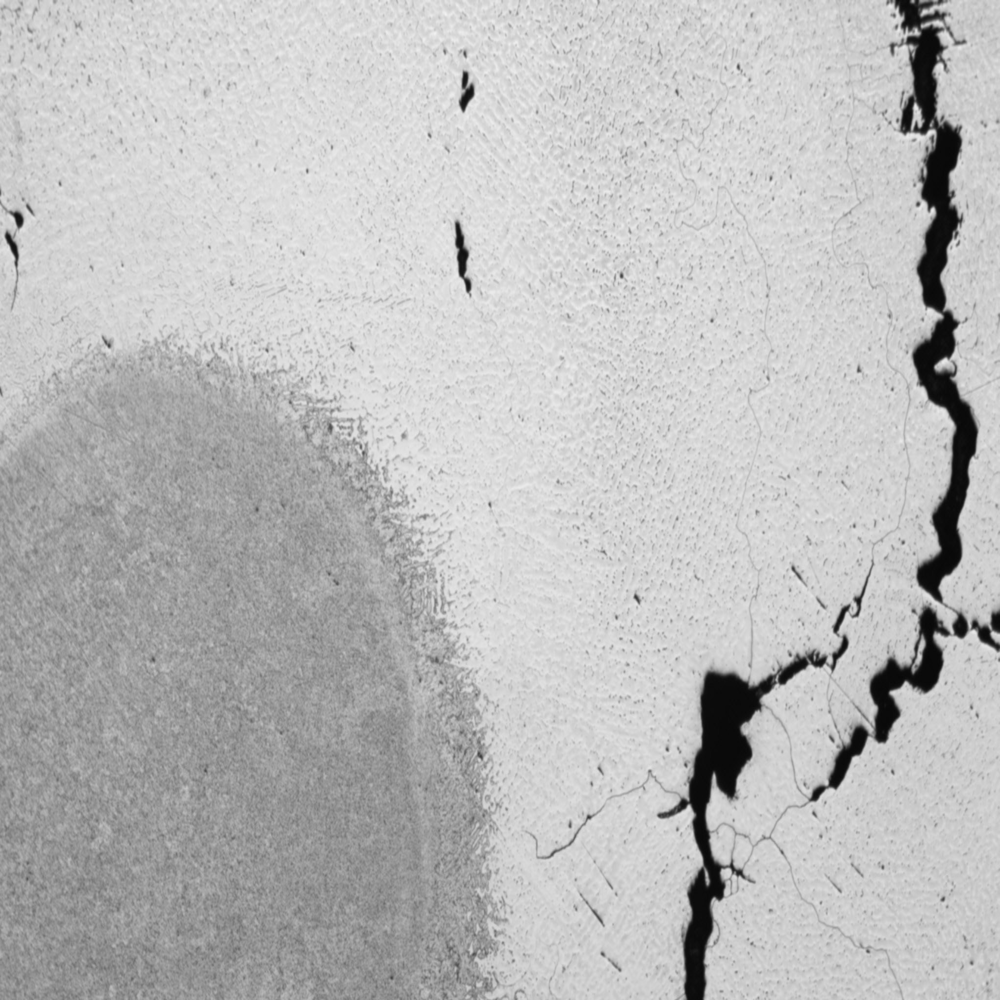crack: (646, 7, 982, 992), (3, 186, 37, 313), (437, 54, 492, 122), (457, 216, 473, 316)
